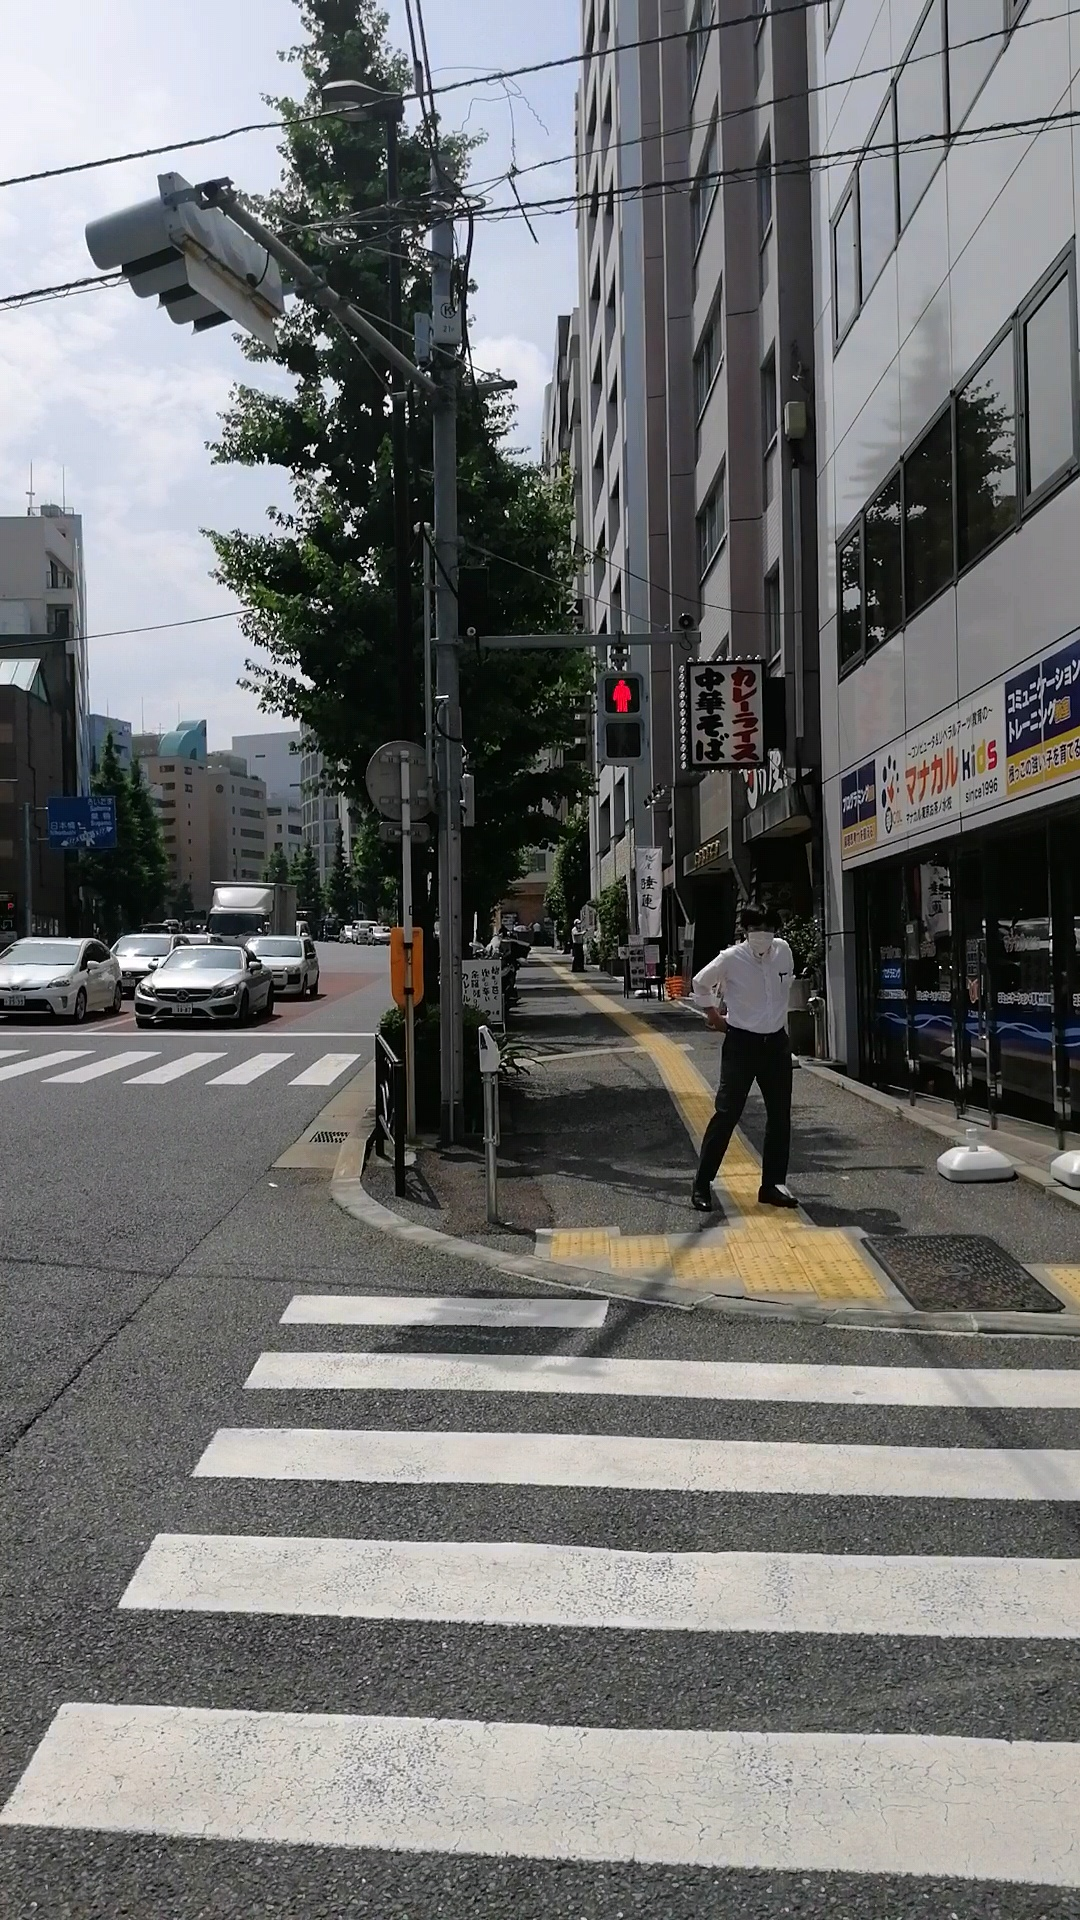red: (596, 673, 651, 765)
